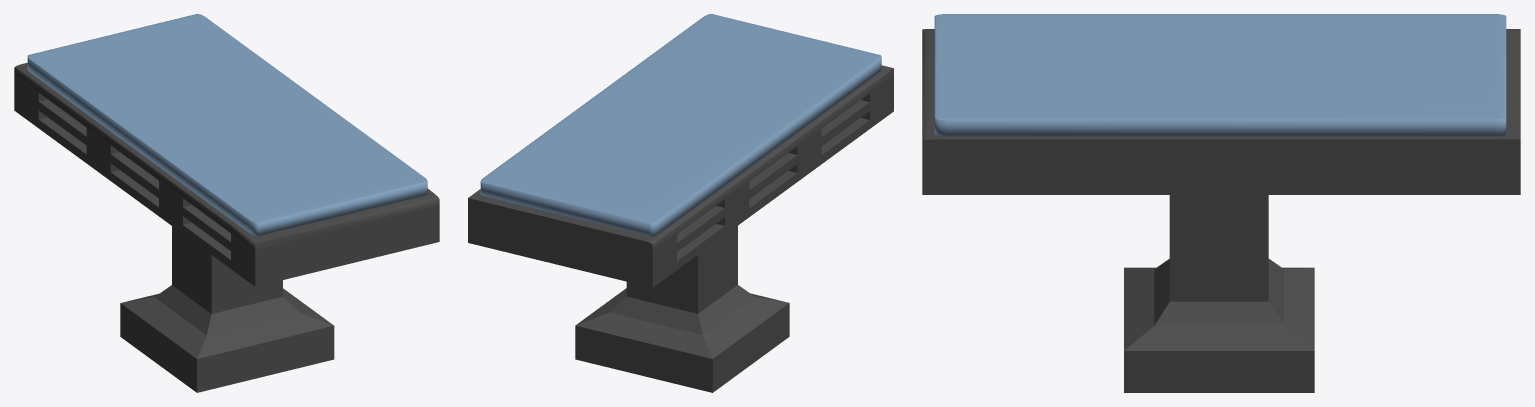
The model's file is bed_operation.fbx.
The picture shows the model from 3 angles, left to right: view 1: azimuth 30°, elevation 25°; view 2: azimuth 150°, elevation 25°; view 3: azimuth 270°, elevation 25°; orthographic projection. The views are drawn at different scales.
Parts seen in each view (by area): view 1: operation_bed_high; view 2: operation_bed_high; view 3: operation_bed_high.
Part boxes in pixels (x1=…): operation_bed_high: x1=14, y1=14, x2=439, y2=392; operation_bed_high: x1=468, y1=14, x2=893, y2=392; operation_bed_high: x1=922, y1=14, x2=1520, y2=392.
Size of the model in its own units: 105 by 125 by 238.
